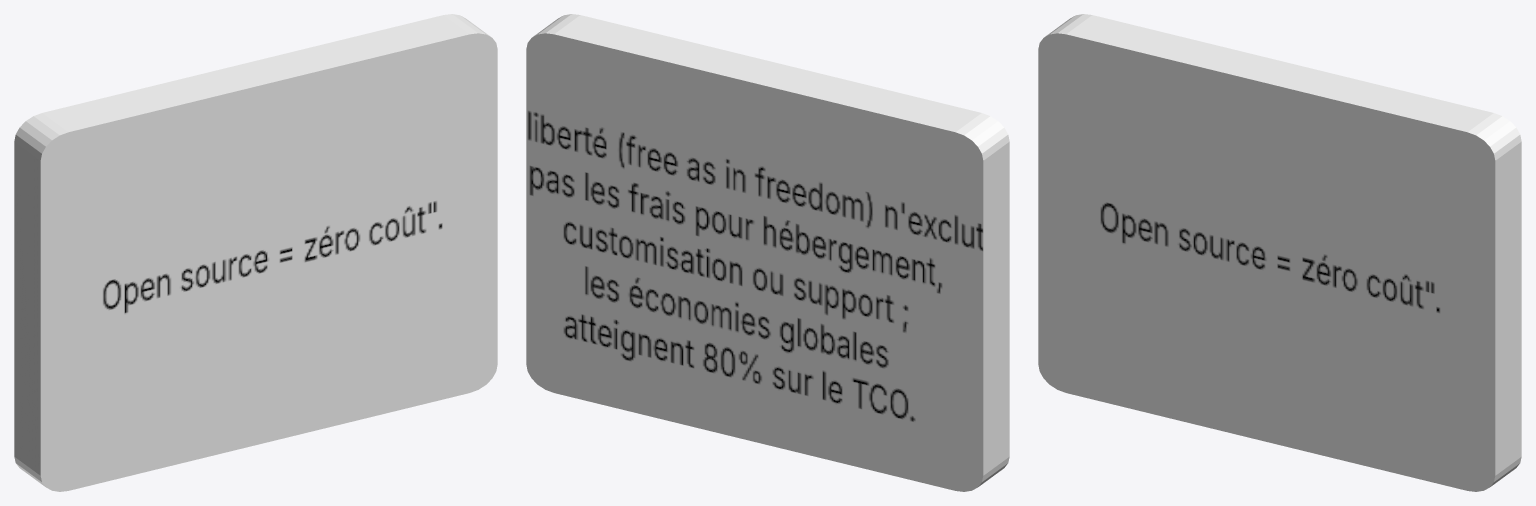
3 renders of one model, left to right at view 1: azimuth 30°, elevation 25°; view 2: azimuth 150°, elevation 25°; view 3: azimuth 330°, elevation 25°, orthographic.
Parts seen in each view (by area): view 1: Q3; view 2: Q3; view 3: Q3.
Boxes of the visible parts, left/top/right/bottom form: Q3: left=14, top=14, right=497, bottom=491; Q3: left=526, top=14, right=1009, bottom=491; Q3: left=1038, top=14, right=1521, bottom=491.
Size of the model in its own units: 4 by 3 by 0.4.
Materials: 1 (1 with a texture image).
